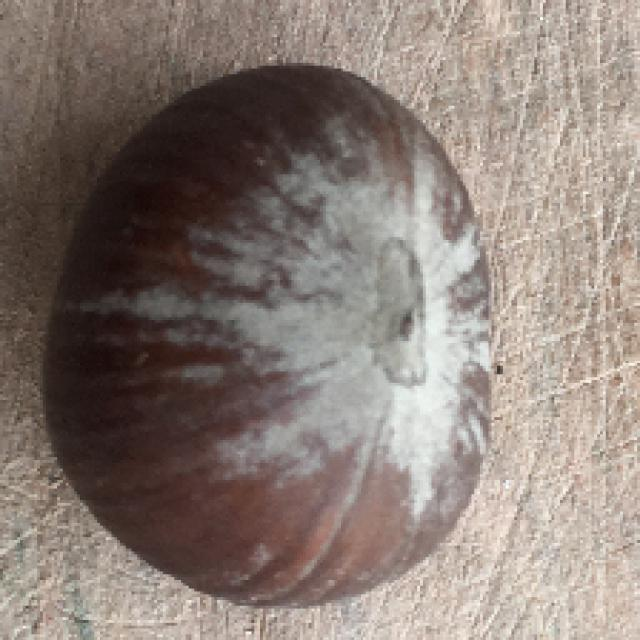damagedHazelnut: (33, 61, 507, 614)
